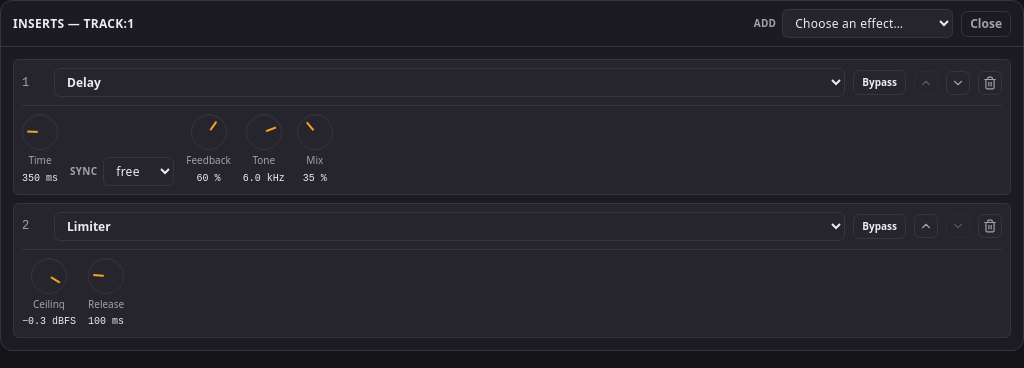
Test: InsertPanel remove (spec §8.5.6, issue #142) › empties the slot and leaves the rest of the chain where it was
Click the button named "Remove insert 1, Delay".
click(990, 82)  # box [978, 70, 1002, 94]
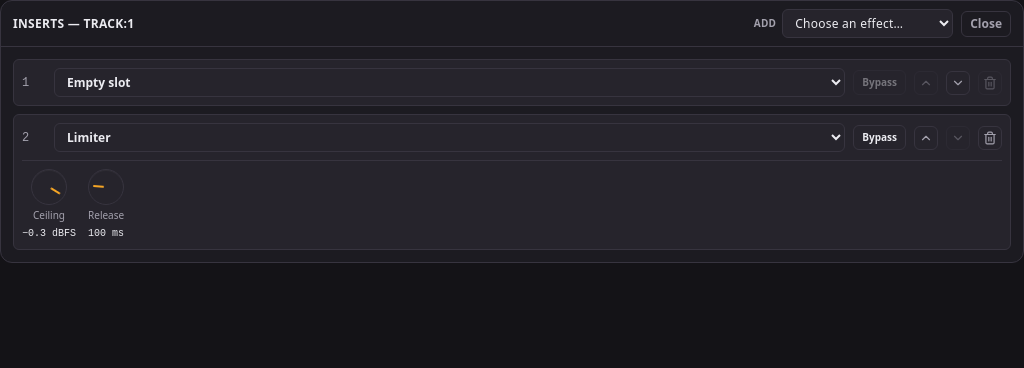
expect the list item with aria-label "Insert 2 — Limiter" is shown: met, box [13, 114, 1011, 250]
expect the list item with aria-label "Insert 1 — empty" is shown: met, box [13, 59, 1011, 106]
